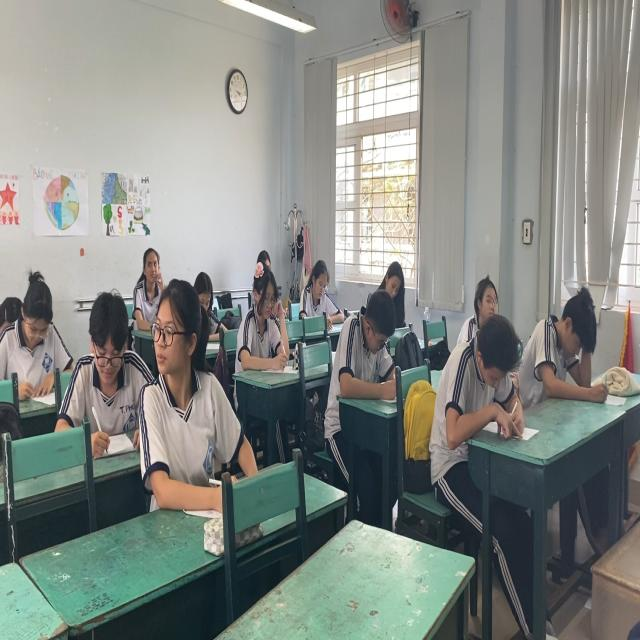cheating: (148, 279, 221, 483)
not_cheating: (70, 292, 144, 462), (443, 310, 527, 439), (529, 289, 614, 407), (0, 262, 72, 396), (331, 286, 398, 410), (233, 258, 291, 375), (288, 255, 340, 328), (468, 272, 504, 324), (134, 251, 165, 306), (380, 262, 404, 317)
